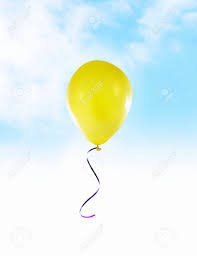Balloon: (67, 60, 132, 145)
